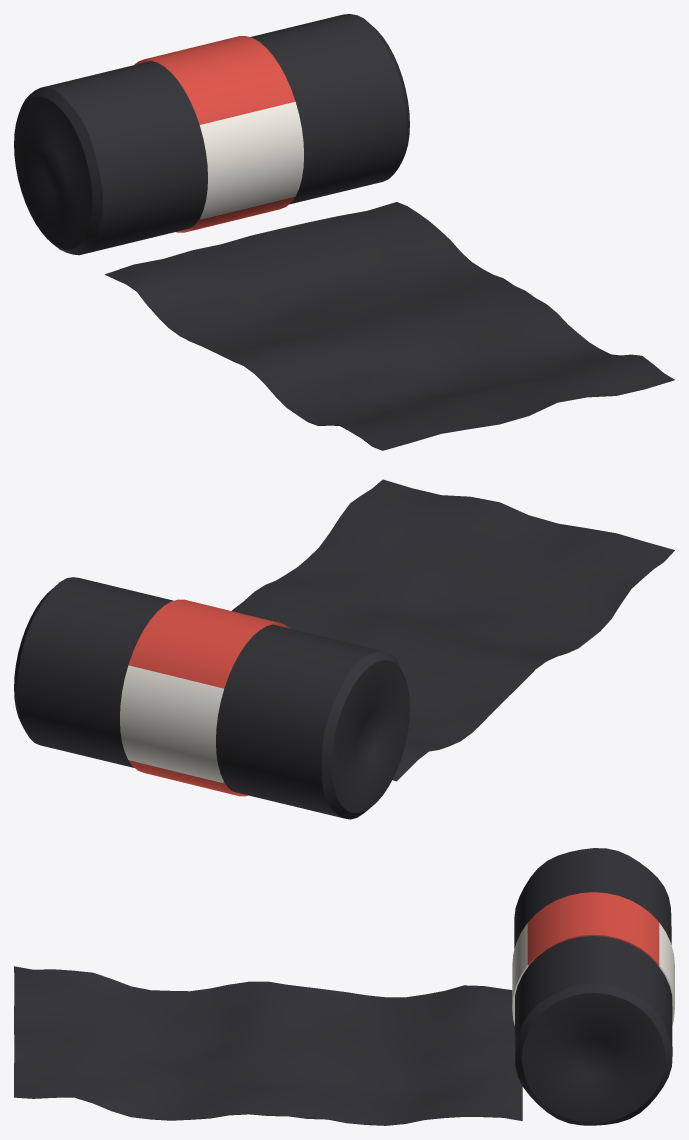
The model's file is kitchen_bin_bag_empty_roll.fbx.
The picture shows the model from 3 angles, top to bottom: view 1: azimuth 30°, elevation 25°; view 2: azimuth 150°, elevation 25°; view 3: azimuth 270°, elevation 25°; orthographic projection. The views are drawn at different scales.
Parts seen in each view (by area): view 1: kitchen_bin_bag_empty_roll; view 2: kitchen_bin_bag_empty_roll; view 3: kitchen_bin_bag_empty_roll.
Boxes of the visible parts, x1,y1,x2,y2 form: kitchen_bin_bag_empty_roll: (14,14,674,450); kitchen_bin_bag_empty_roll: (14,479,674,819); kitchen_bin_bag_empty_roll: (14,848,674,1125).
Bounding box in the file's own units: 0.145 × 0.072 × 0.2859.
